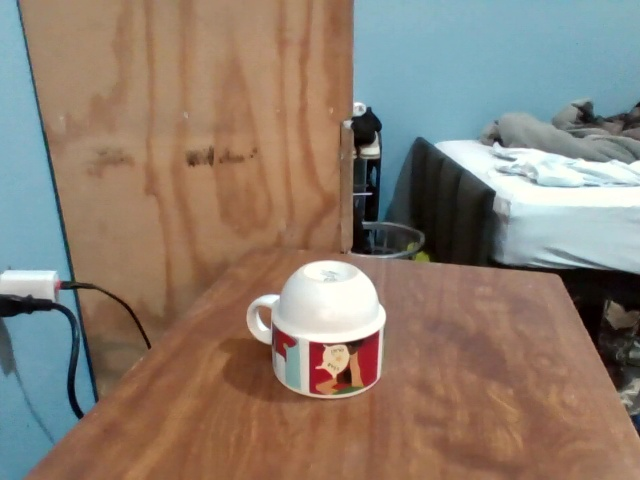taza: (246, 257, 387, 398)
